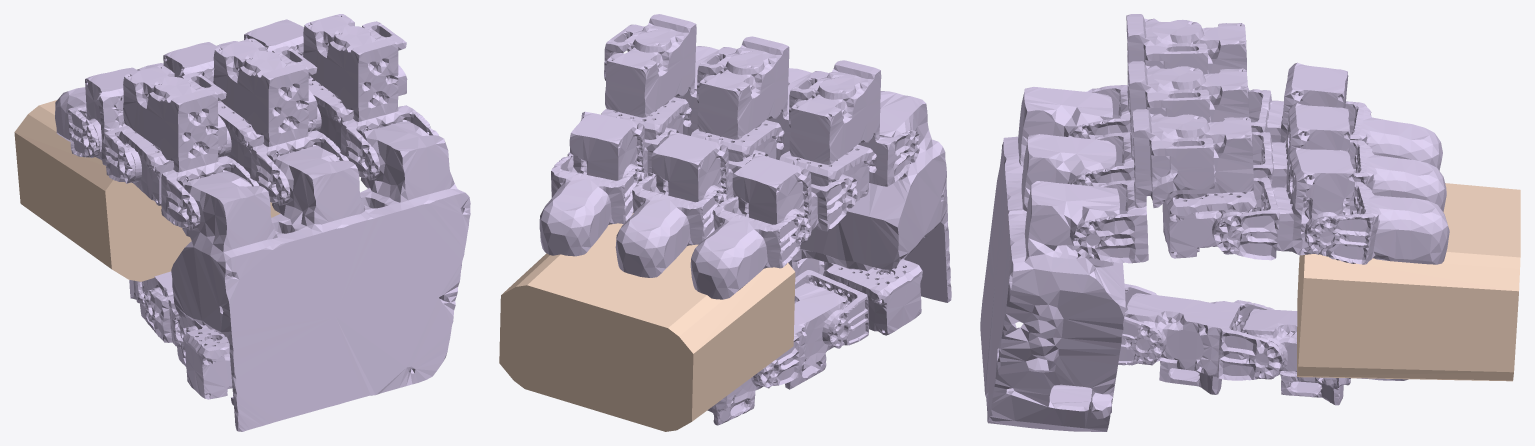
The model's file is 2a69b6945f5c8b-closed.glb.
The picture shows the model from 3 angles, left to right: view 1: azimuth 30°, elevation 25°; view 2: azimuth 150°, elevation 25°; view 3: azimuth 270°, elevation 25°; orthographic projection. The views are drawn at different scales.
Visible parts, largest first — view 1: LEAP_hand, world; view 2: LEAP_hand, world; view 3: LEAP_hand, world.
Part boxes in pixels (x1,y1,x2,y2): LEAP_hand: (55, 14, 470, 431); world: (14, 100, 280, 281); LEAP_hand: (539, 14, 951, 425); world: (499, 213, 795, 431); LEAP_hand: (980, 14, 1449, 431); world: (1297, 183, 1520, 381).
Bounding box in the file's own units: 0.1263 × 0.1452 × 0.2086.
